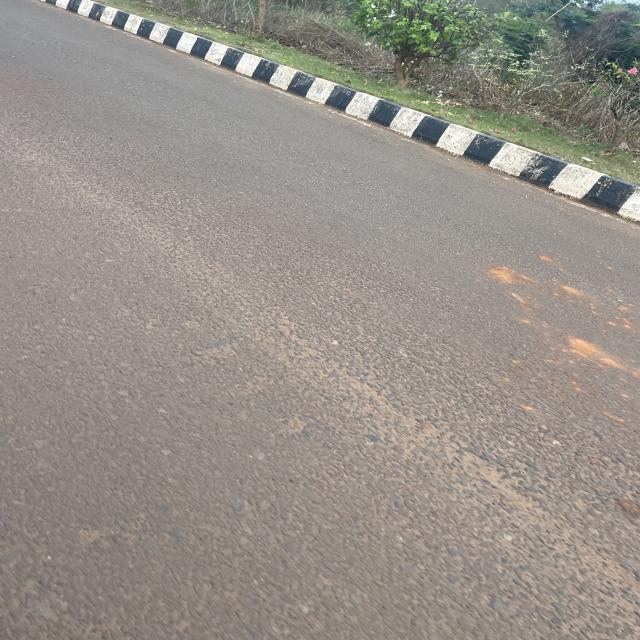D40: (341, 325, 631, 592)
